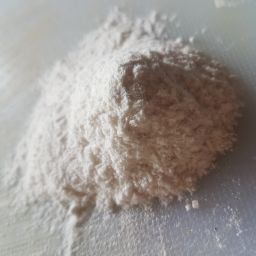Plain flour: (64, 4, 251, 225), (3, 52, 167, 232), (73, 37, 210, 156), (36, 96, 161, 195)
